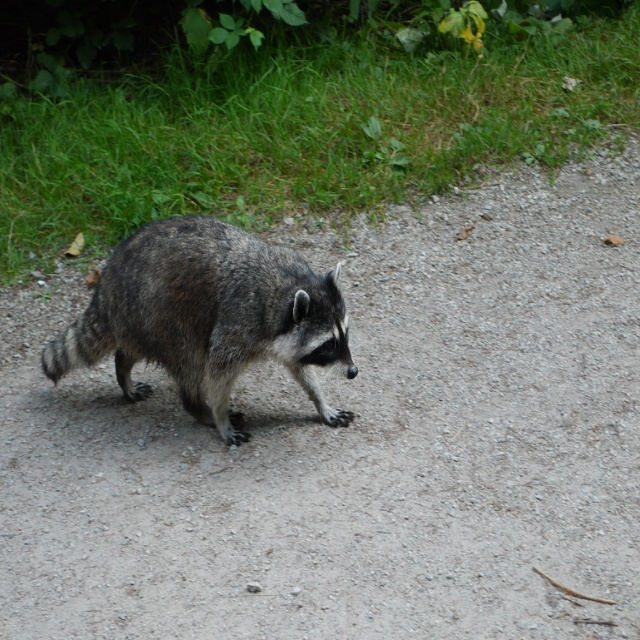Raccoon: (42, 215, 357, 445)
